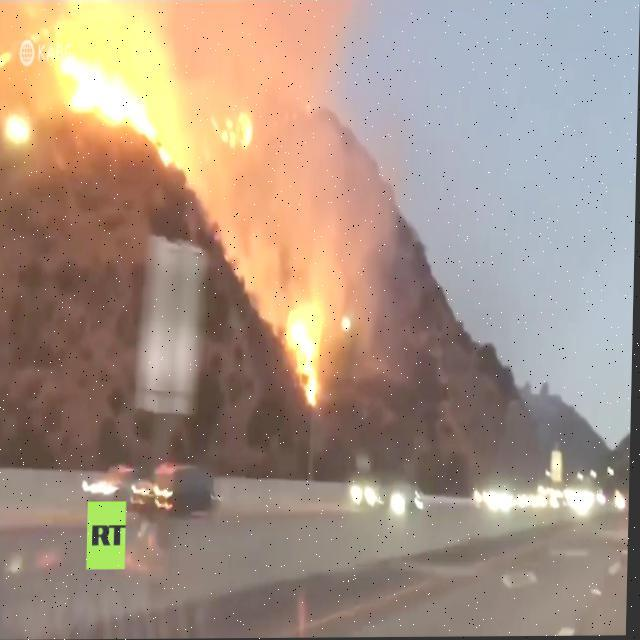Fire: (54, 23, 182, 170), (286, 300, 324, 406), (213, 104, 253, 150)
